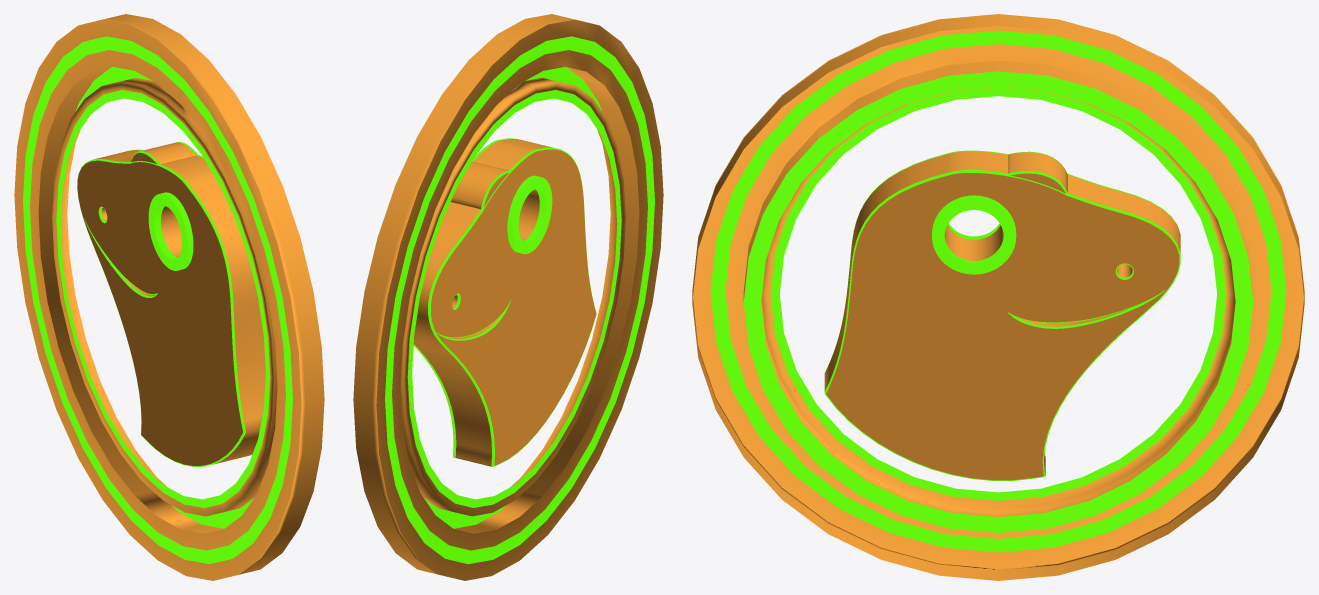
The model's file is Gecko coin 2.gltf.
The picture shows the model from 3 angles, left to right: view 1: azimuth 30°, elevation 25°; view 2: azimuth 150°, elevation 25°; view 3: azimuth 270°, elevation 25°; orthographic projection. The views are drawn at different scales.
Parts seen in each view (by area): view 1: Cylinder, path3, path2, path7; view 2: Cylinder, path3, path2, path7; view 3: Cylinder, path3, path2, path7.
Part boxes in pixels (x1=…): Cylinder: x1=14, y1=14, x2=324, y2=580; path3: x1=77, y1=149, x2=265, y2=466; path2: x1=148, y1=192, x2=193, y2=270; path7: x1=131, y1=142, x2=197, y2=164; Cylinder: x1=353, y1=14, x2=663, y2=580; path3: x1=413, y1=138, x2=596, y2=466; path2: x1=507, y1=175, x2=552, y2=254; path7: x1=450, y1=161, x2=510, y2=209; Cylinder: x1=692, y1=14, x2=1304, y2=580; path3: x1=824, y1=150, x2=1180, y2=480; path2: x1=932, y1=195, x2=1016, y2=274; path7: x1=1008, y1=151, x2=1067, y2=193.
Size of the model in its own units: 0.2086 by 1.99 by 1.99.
